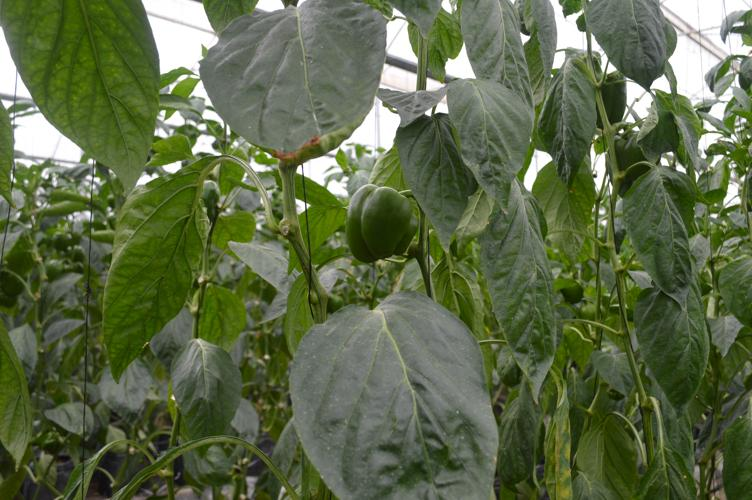BellPepper: (335, 181, 424, 264)
